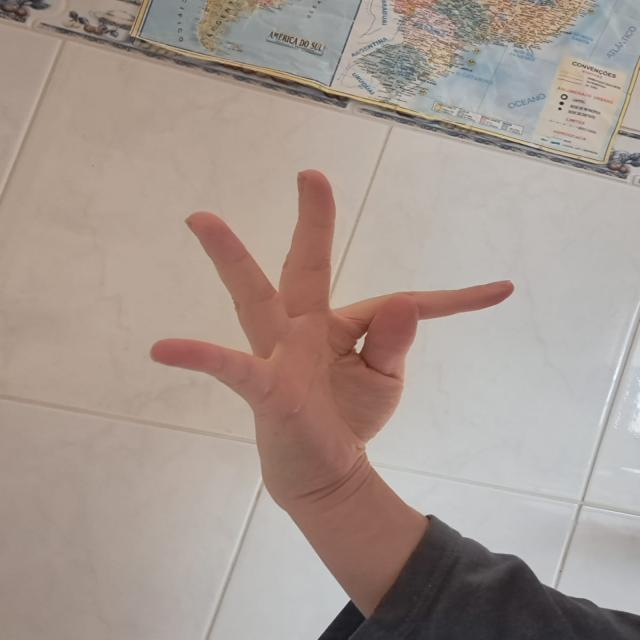T: (144, 164, 523, 462)
